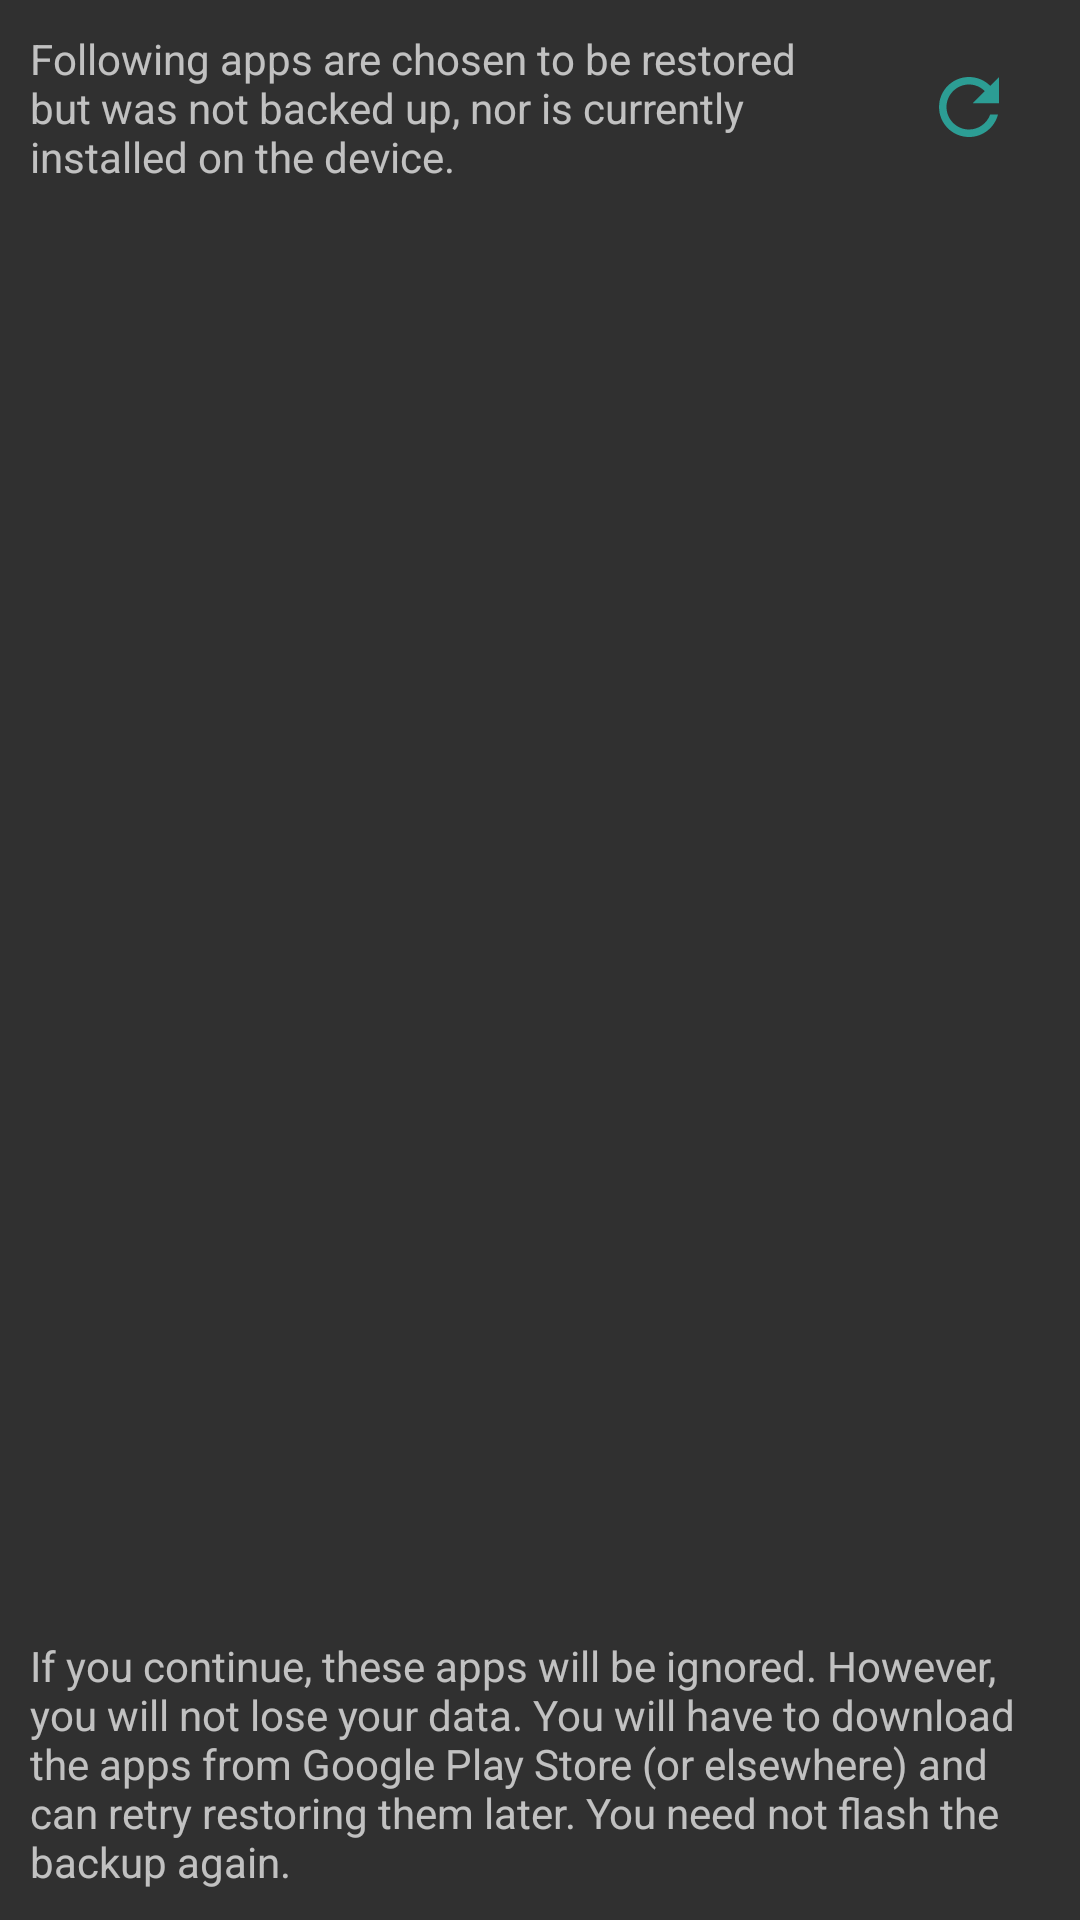

Locate icon controls on the screen. Image size 1080×1920, boxes as Rect(x1, y1, x2, y2).
refresh apps not installed: Rect(939, 77, 999, 137)
